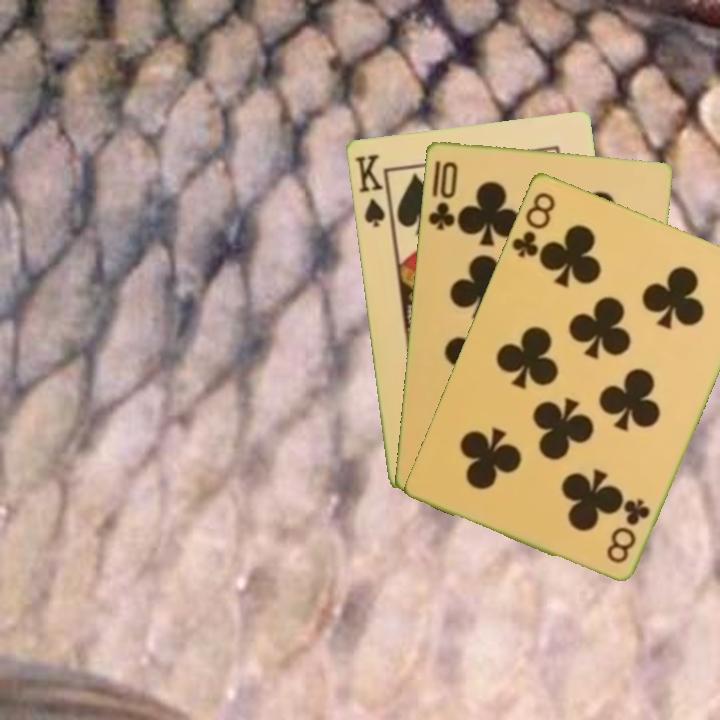10c: (424, 157, 460, 233)
8c: (602, 494, 653, 566), (508, 188, 558, 260)
Ks: (350, 150, 393, 230)
